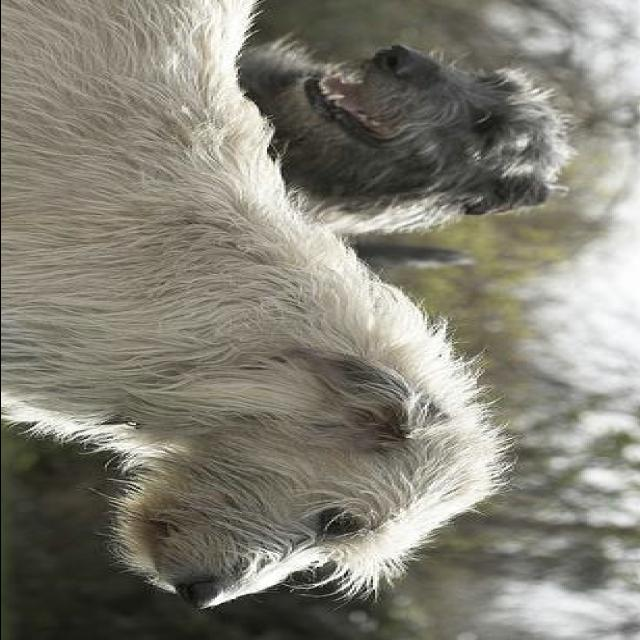irish_wolfhound: (2, 0, 526, 608), (243, 44, 578, 274)
